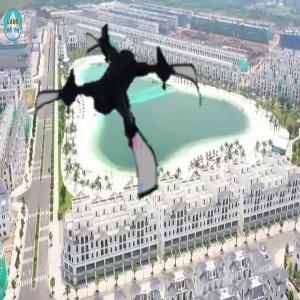drone: (28, 20, 211, 203)
